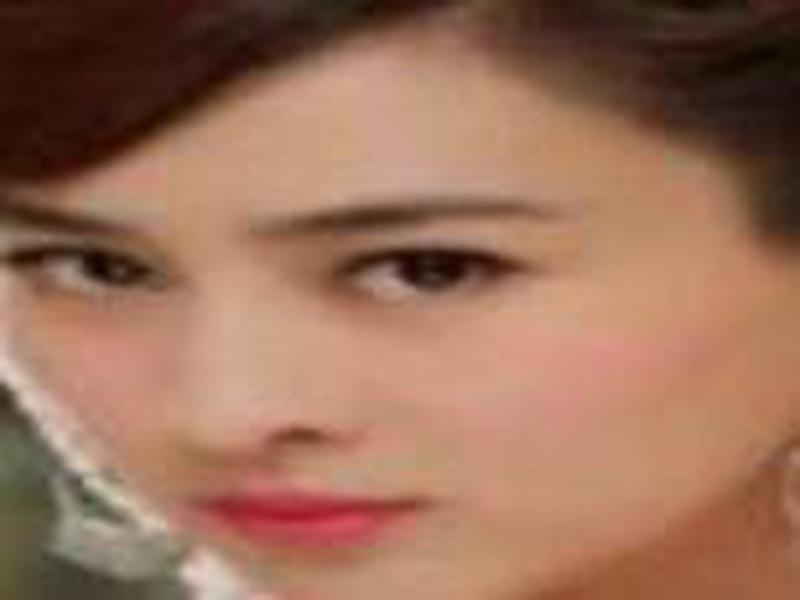without_mask: (1, 125, 789, 595)
